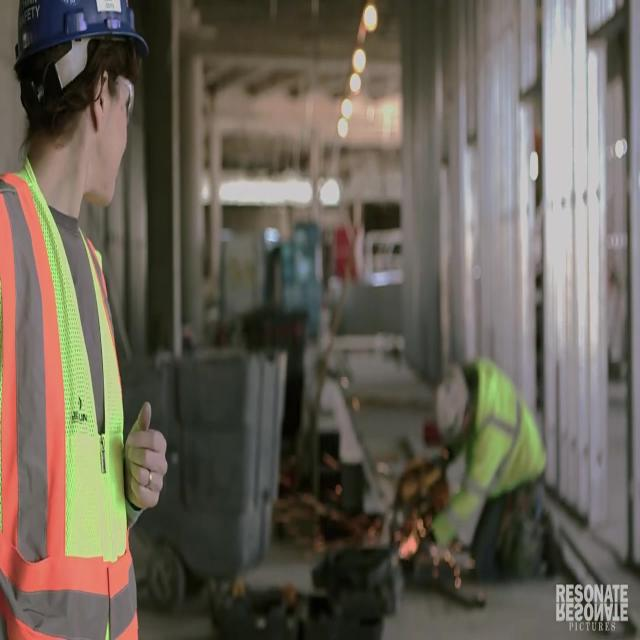Reflective-Jacket: (2, 159, 150, 640), (451, 353, 563, 548)
Safety-Helmet: (2, 0, 159, 103), (419, 352, 478, 469)
